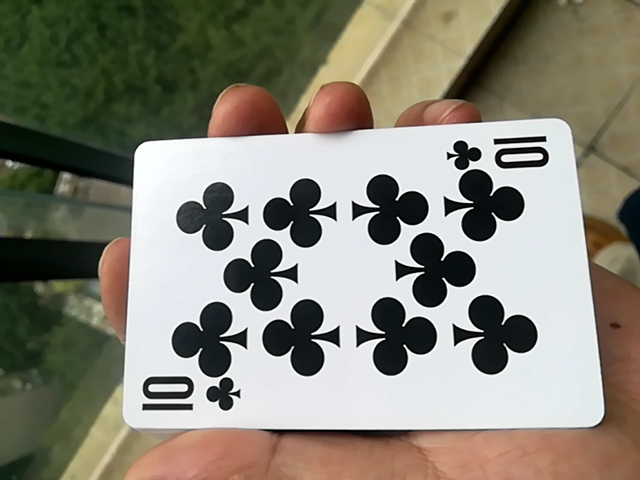mh 10: (115, 125, 604, 448)
